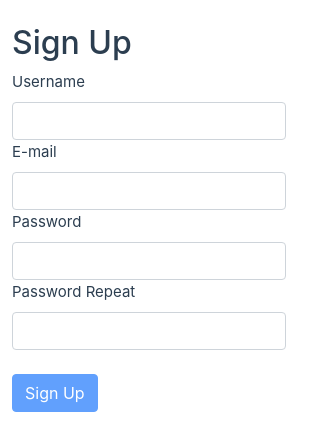
Test: Sign Up Page › Interactions › should be an validation error message for username
This screenshot has width=332, height=442.
Type "user1" into the field with id "username". click: (149, 121)
box: [12,102,286,140]
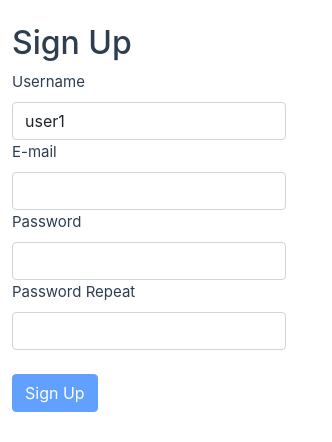
Type "user1@mail.com" into the field with id "e-mail". click: (149, 191)
box: [12,172,286,210]
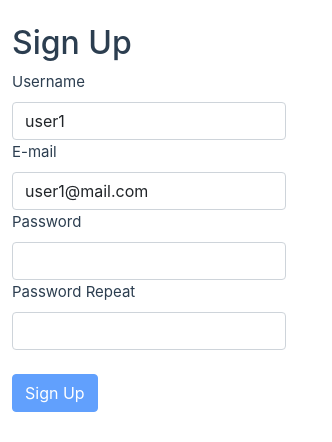
Type "P4ssword" into the password field labelled "Password". click: (149, 261)
box: [12,242,286,280]
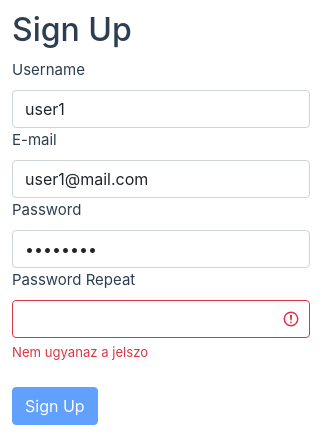
Type "P4ssword" into the password field labelled "Password Repeat". click: (161, 319)
box: [12,300,310,338]
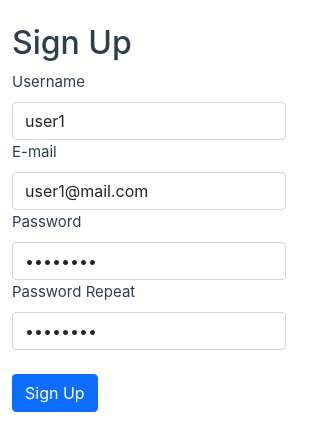
Click the button "Sign Up". click: (55, 393)
box: [12,374,98,412]
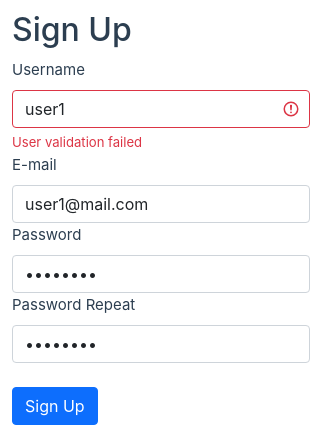
Check: the text with id "error" reads "User validation failed", box [12,134,142,150]
